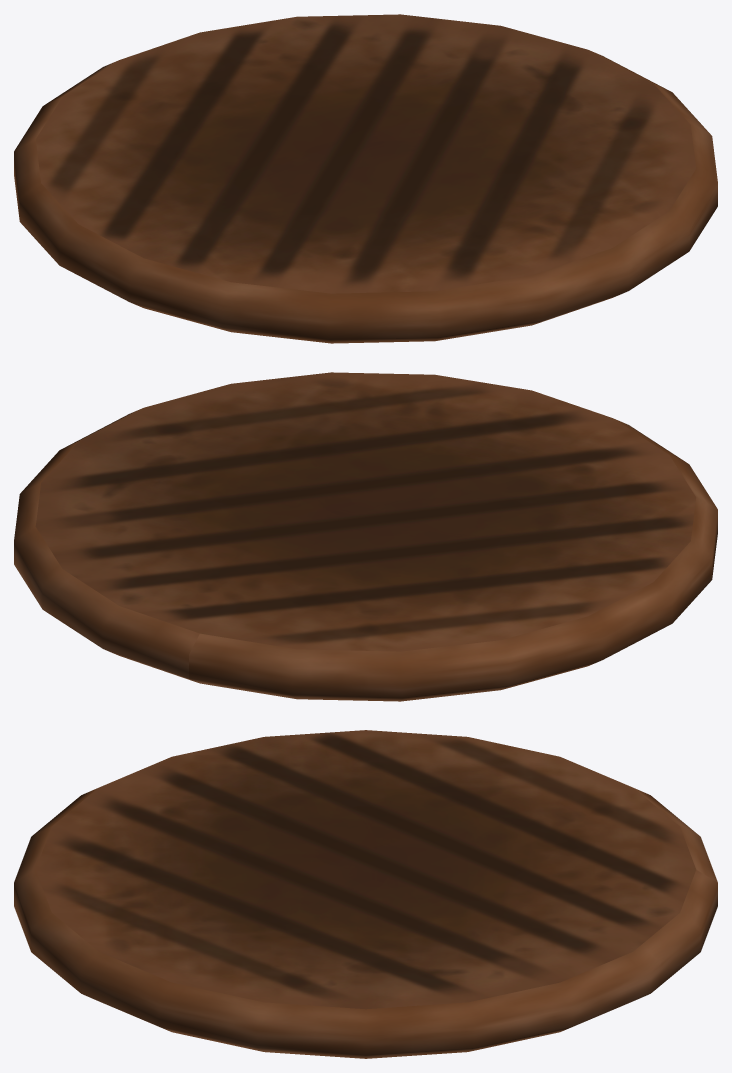
Rendered from meat_paddy.fbx.
The picture shows the model from 3 angles, top to bottom: view 1: azimuth 30°, elevation 25°; view 2: azimuth 150°, elevation 25°; view 3: azimuth 270°, elevation 25°; orthographic projection.
Parts seen in each view (by area): view 1: meat_paddy; view 2: meat_paddy; view 3: meat_paddy.
Part boxes in pixels (<box>): meat_paddy: <box>14,14,717,343</box>; meat_paddy: <box>14,372,717,701</box>; meat_paddy: <box>14,730,717,1058</box>.
Bounding box in the file's own units: 9.85 × 0.7667 × 9.85.
